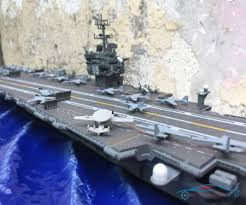maybay_muctieu: (75, 107, 134, 136), (197, 124, 246, 151), (148, 123, 193, 145), (154, 93, 193, 109), (98, 85, 125, 96)
tau_muctieu: (9, 34, 246, 198)
